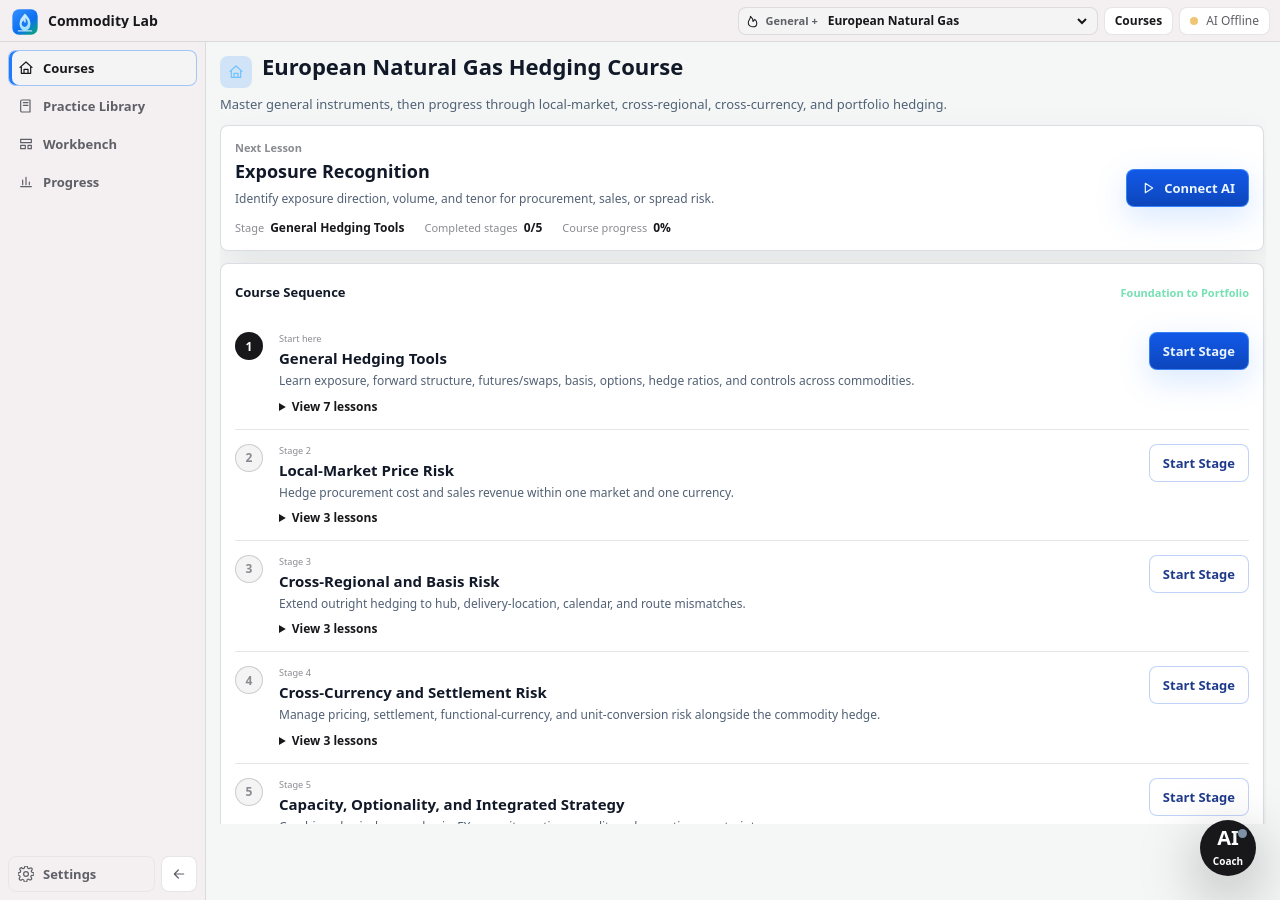
Test: Commodity Lab shell › lets AI visibly switch the current exercise into a historical replay
The width and height of the screenshot is (1280, 900).
Select "Crude Oil" in the dropdown named "Course product". click: x=957, y=20
box: top-left (824, 8), bottom-right (1090, 34)
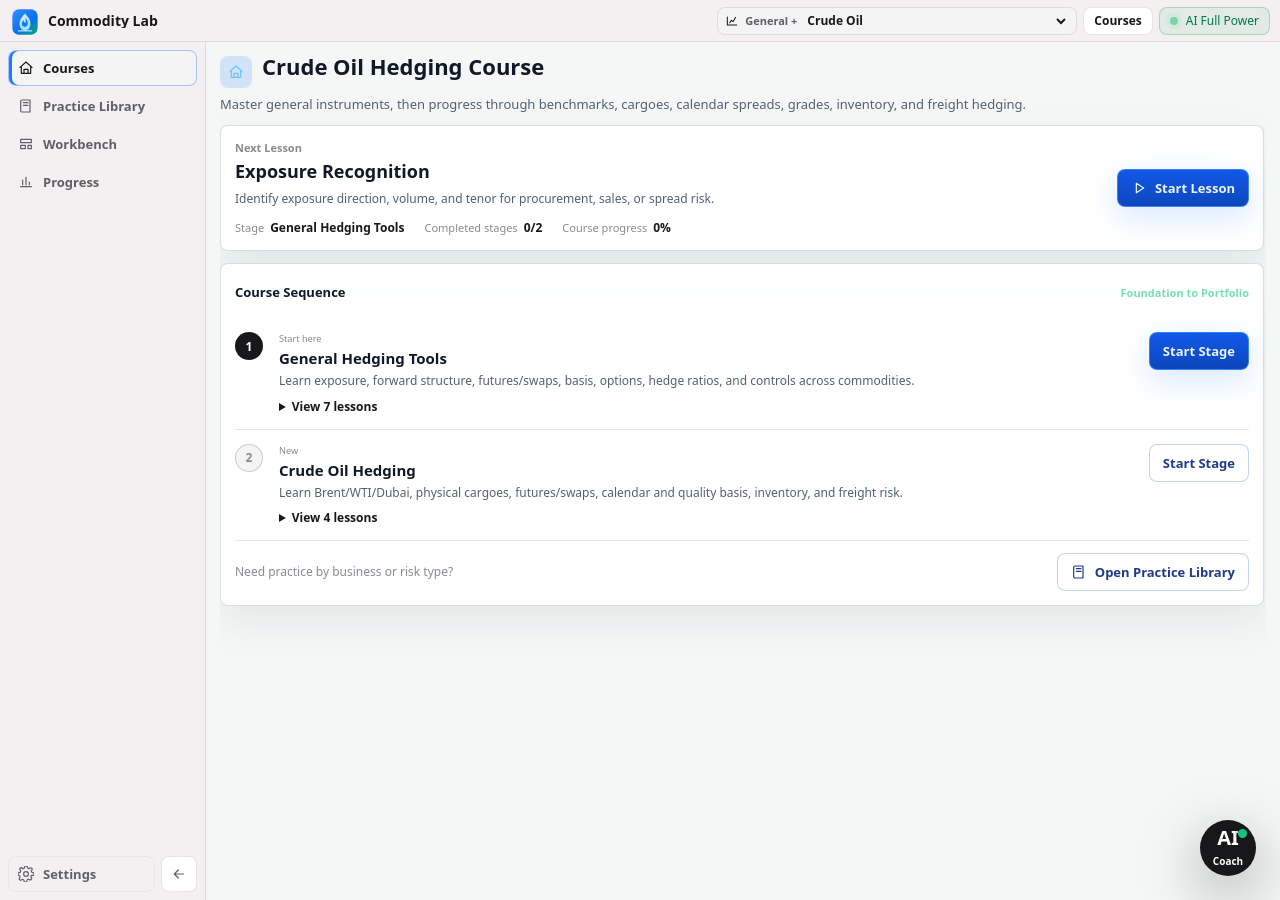
Click the button with aria-label "Live assistant". click: x=1228, y=848
box: top-left (1200, 820), bottom-right (1256, 876)
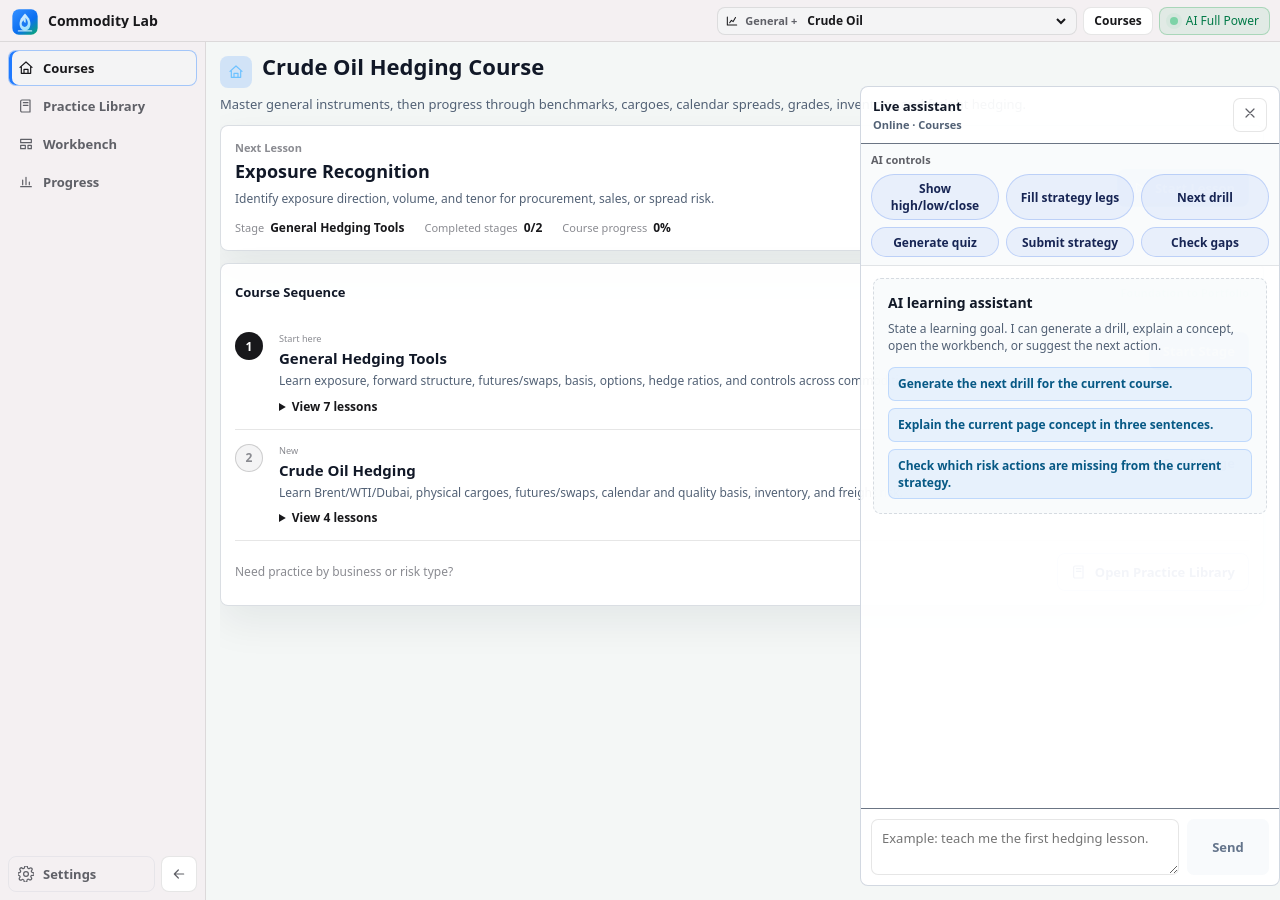
Type "Turn this into a historical replay." into the text box with placeholder "Example: teach me the first hedging lesson.". click: x=1025, y=847
box: top-left (871, 819), bottom-right (1179, 875)
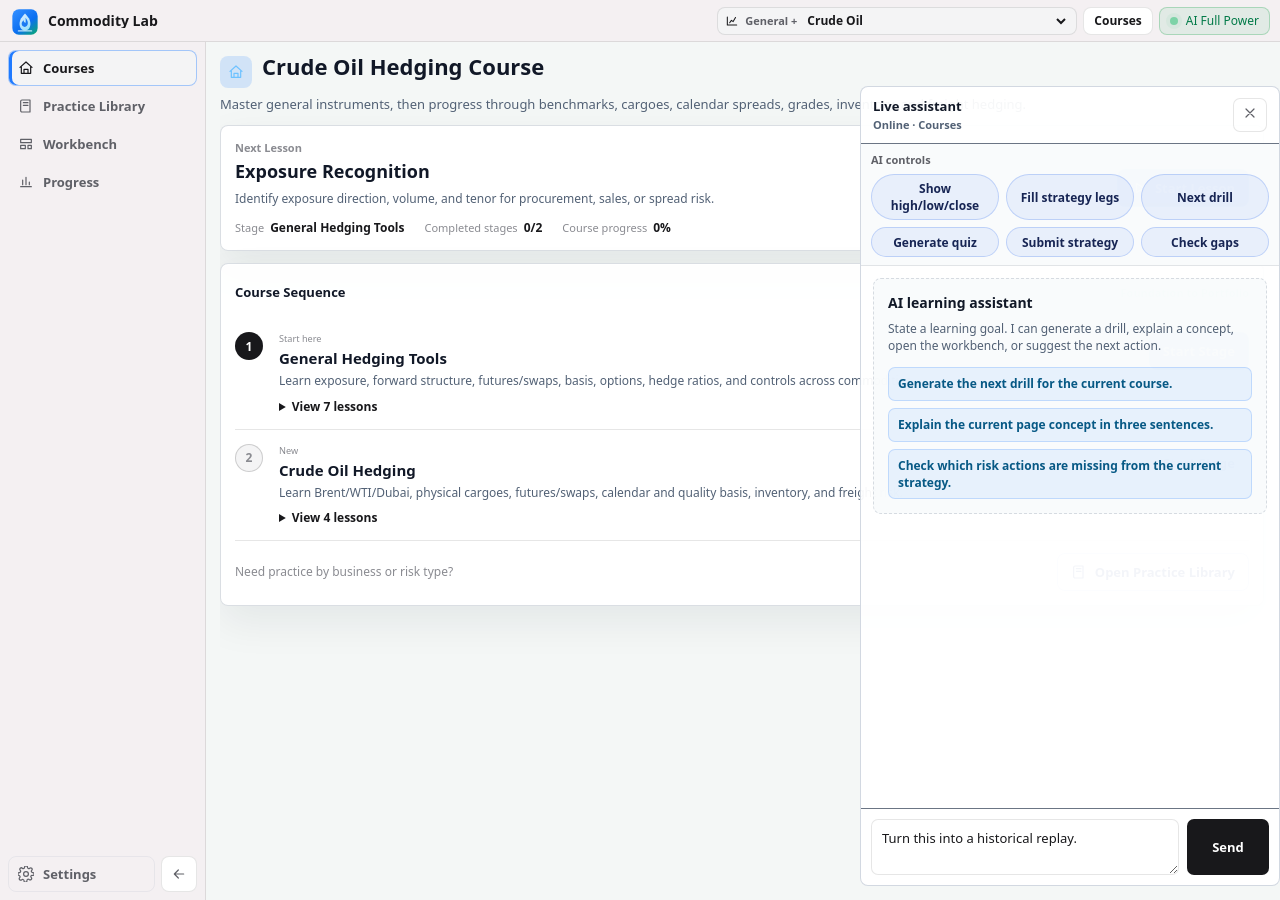
Click the button "Send". click: x=1228, y=847
box: top-left (1187, 819), bottom-right (1269, 875)
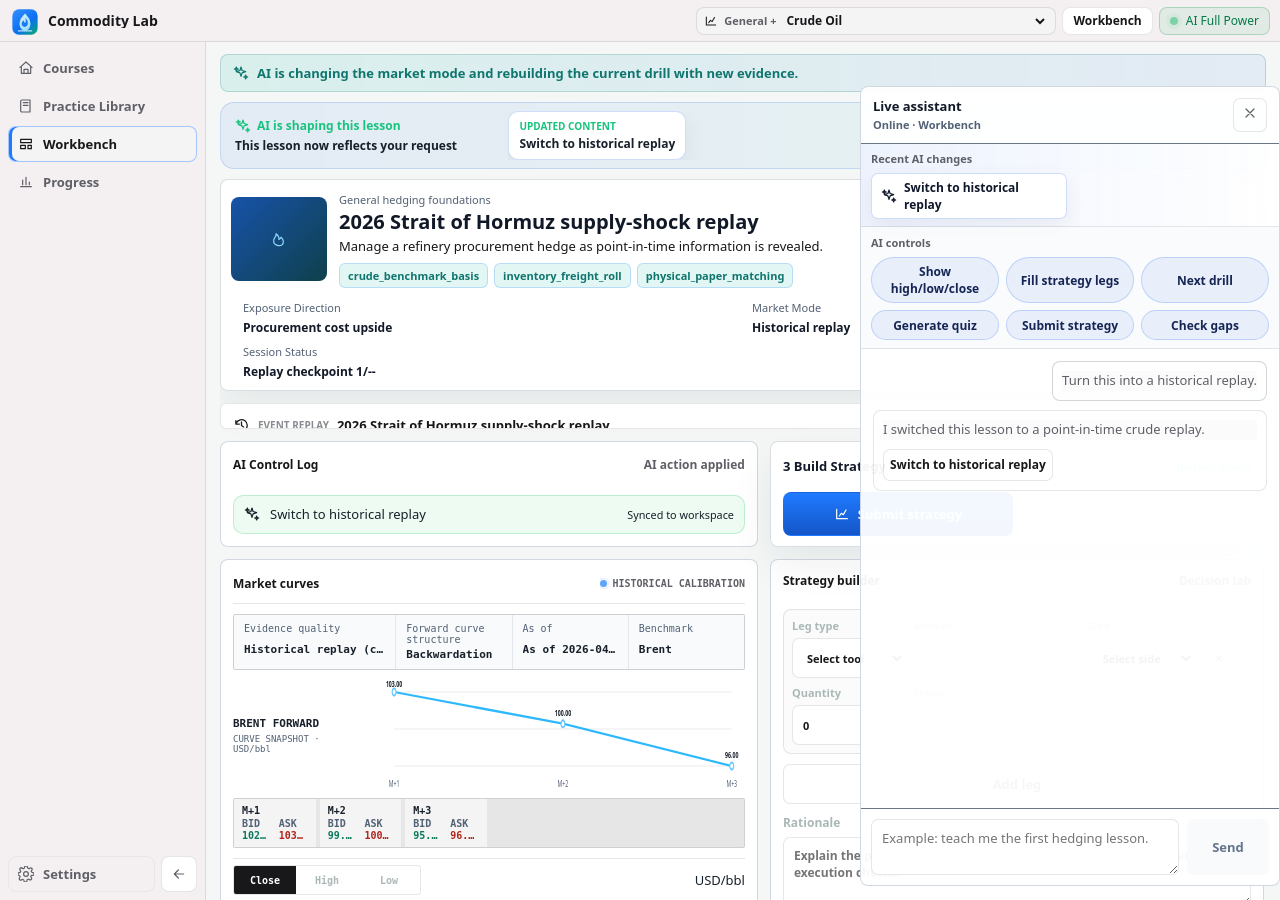
expect the text "Event Replay" is shown: met, box top-left (258, 418), bottom-right (329, 429)
expect the text "Historical replay" is shown: met, box top-left (752, 319), bottom-right (850, 336)
expect the text "Switch to historical replay" next to "This lesson now reflects your request" is shown: met, box top-left (520, 135), bottom-right (675, 152)
